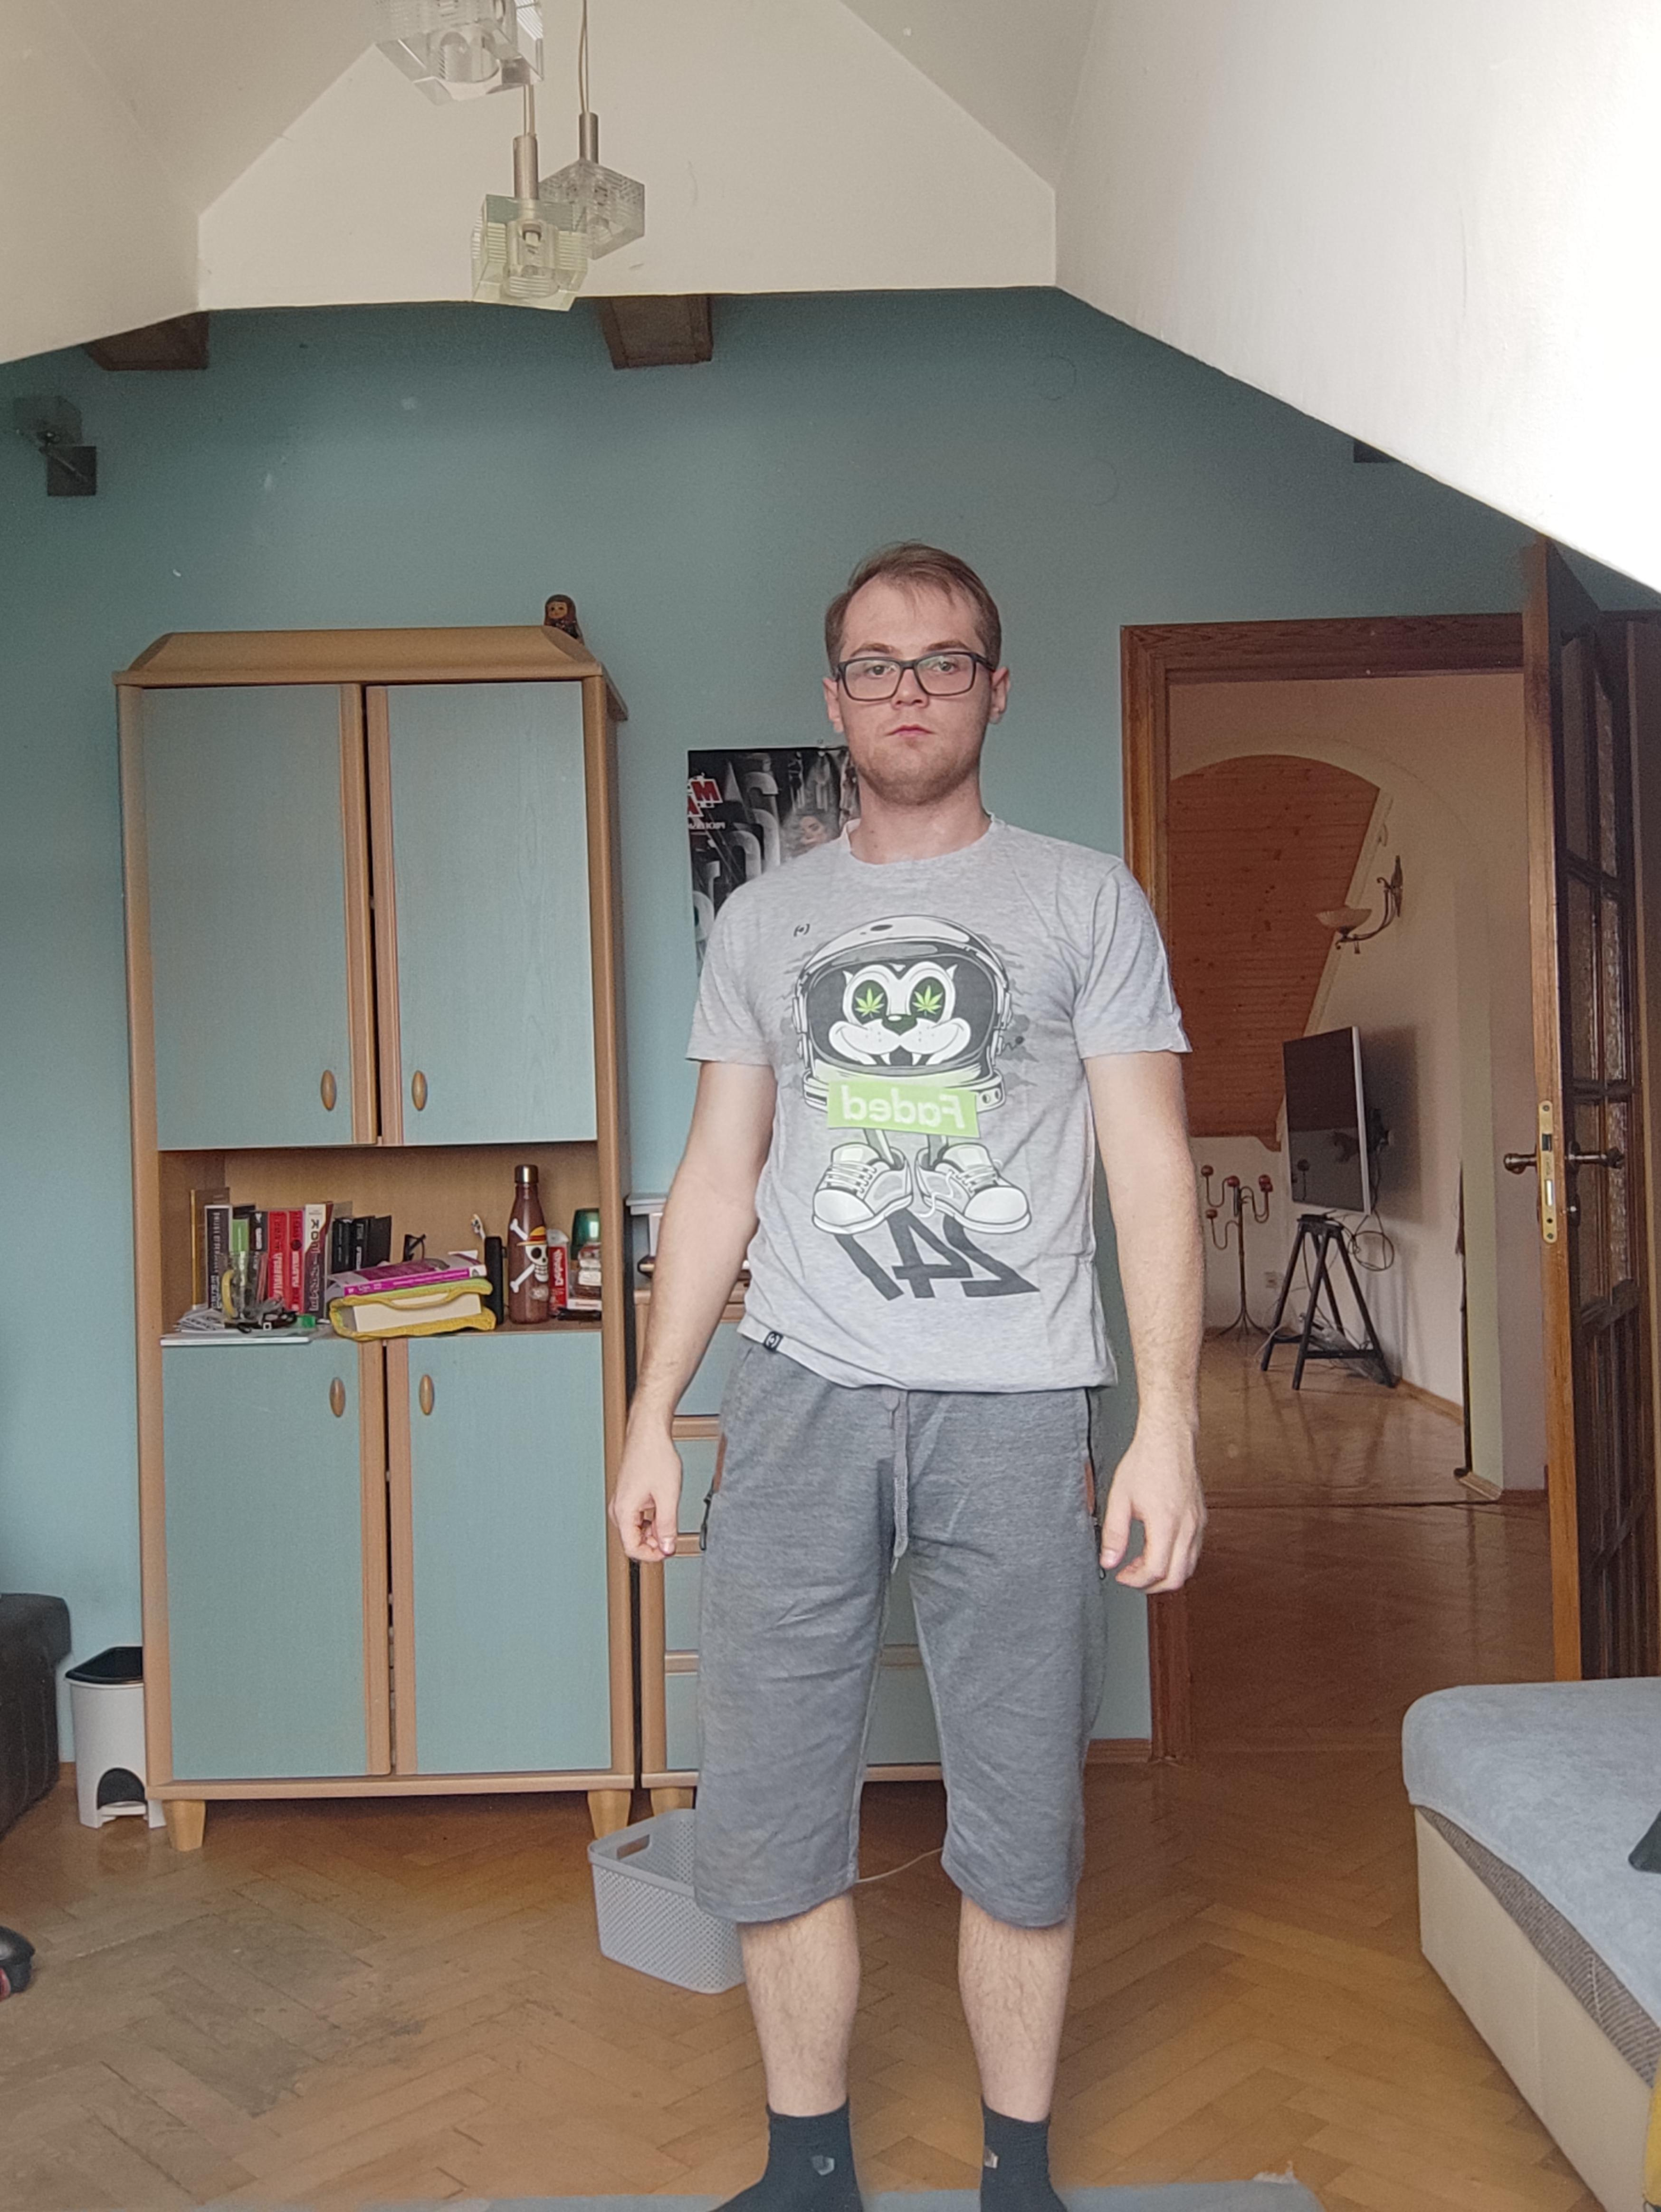Tshirt: (684, 809, 1192, 1392)
short: (696, 1338, 1106, 1929)
